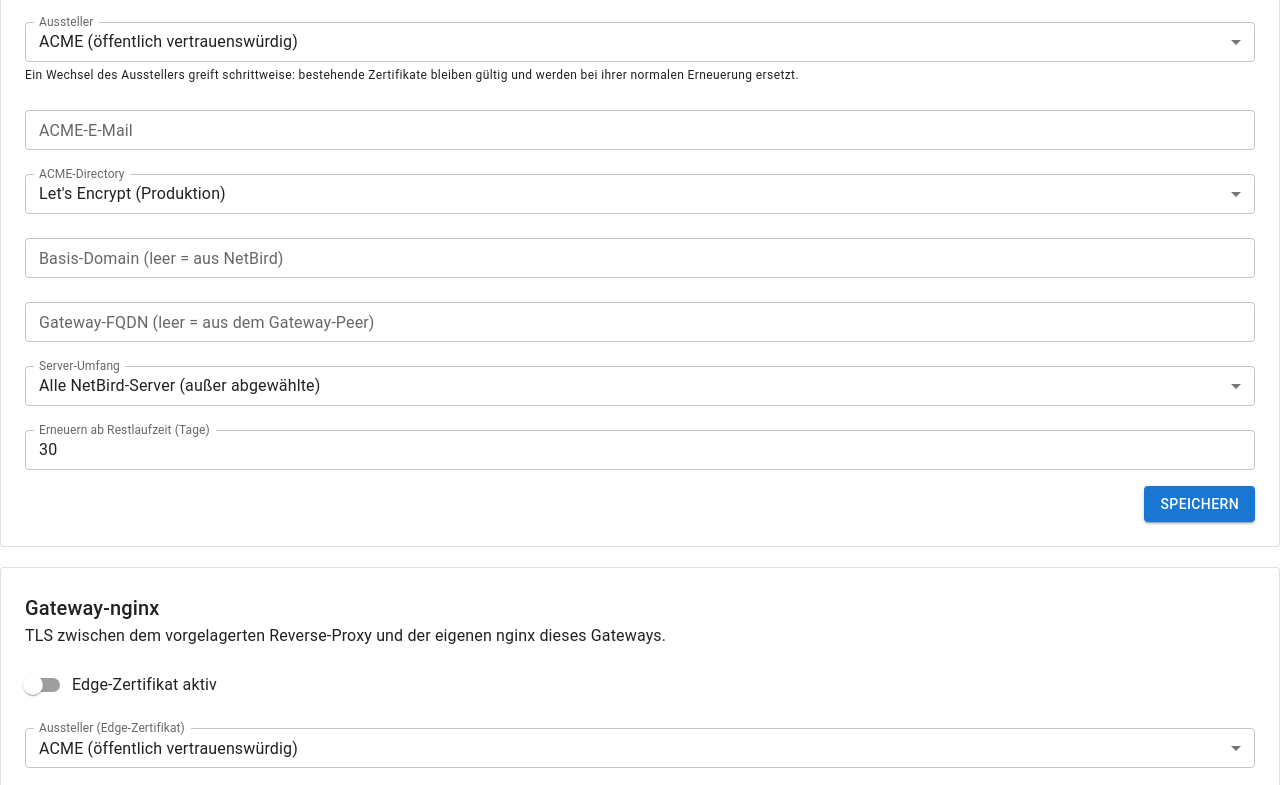
Test: fragt NICHT nach, wenn alle betroffenen Server bereits 'include' gesetzt haben
The width and height of the screenshot is (1280, 785).
(page scrolled)
Step 1. Press the mouse on the dropdown named "Server-Umfang" → [180, 386], box x1=39 y1=376 x2=320 y2=395
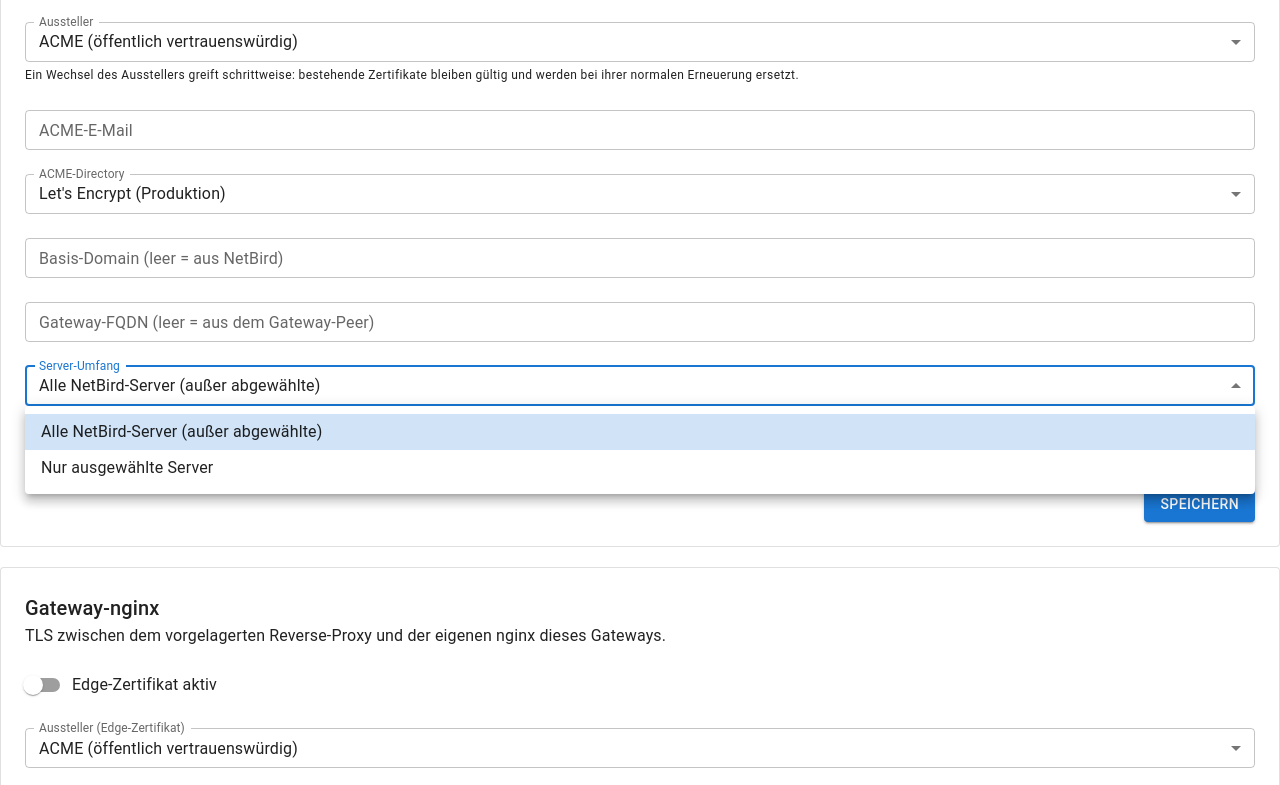
Step 2. Click the option "Nur ausgewählte Server" → [127, 468], box x1=41 y1=458 x2=213 y2=477
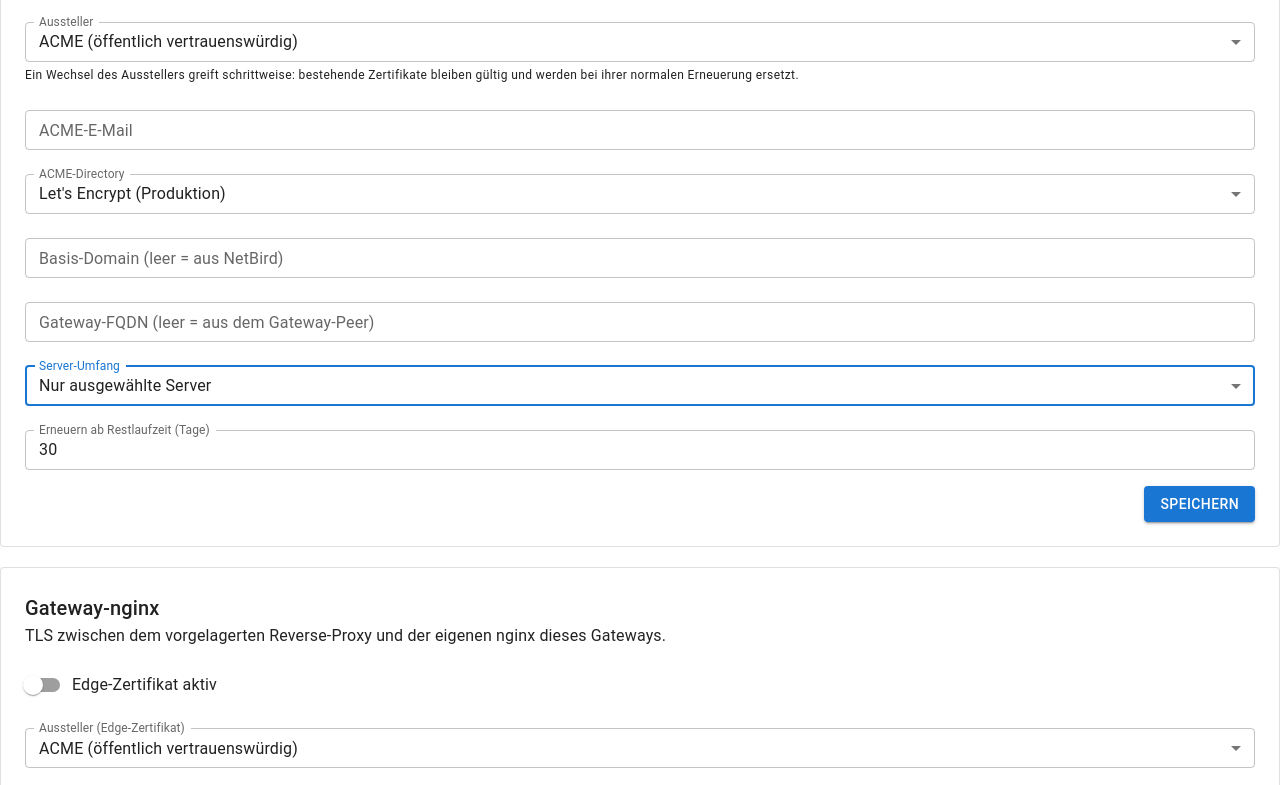
Expected: the dropdown named "Server-Umfang" reads "Nur ausgewählte Server", x1=39 y1=376 x2=211 y2=395
